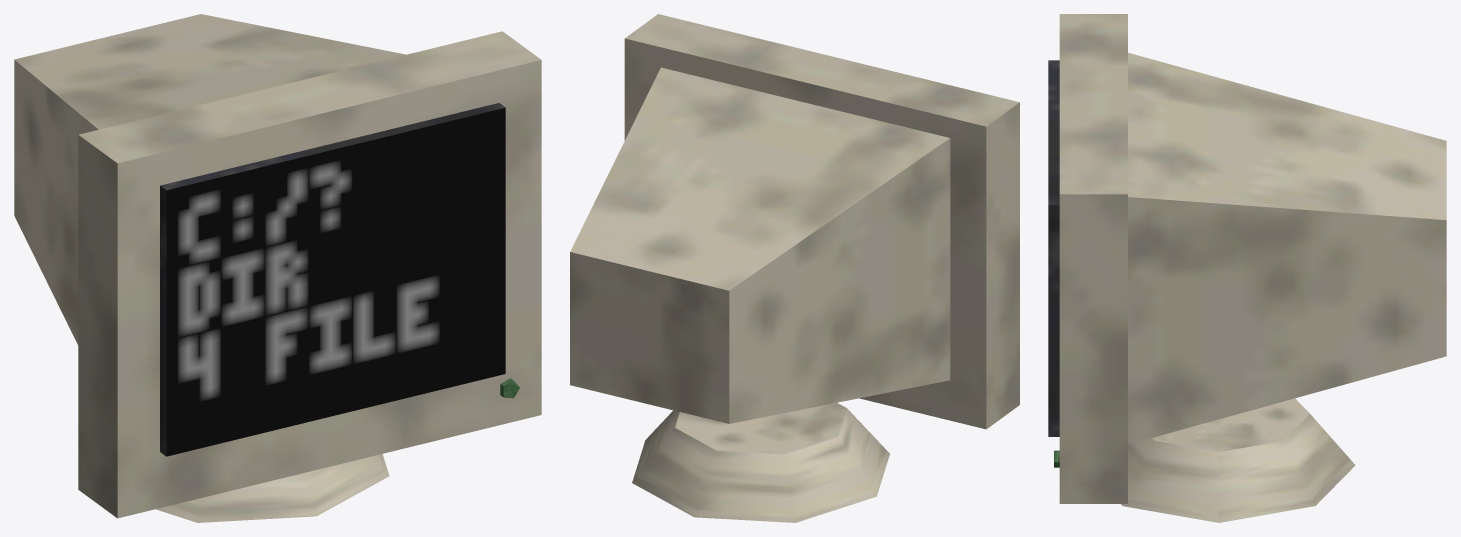
Rendered from crt_monitor.fbx.
3 views of the same model, side by side, from view 1: azimuth 30°, elevation 25°; view 2: azimuth 150°, elevation 25°; view 3: azimuth 270°, elevation 25° (orthographic). The views are drawn at different scales.
Visible parts, largest first — view 1: crt_monitor; view 2: crt_monitor; view 3: crt_monitor.
Part boxes in pixels (left/top/right/bottom): crt_monitor: left=14, top=14, right=541, bottom=522; crt_monitor: left=570, top=14, right=1019, bottom=522; crt_monitor: left=1048, top=14, right=1446, bottom=522.
Size of the model in its own units: 0.375 by 0.35 by 0.35.
